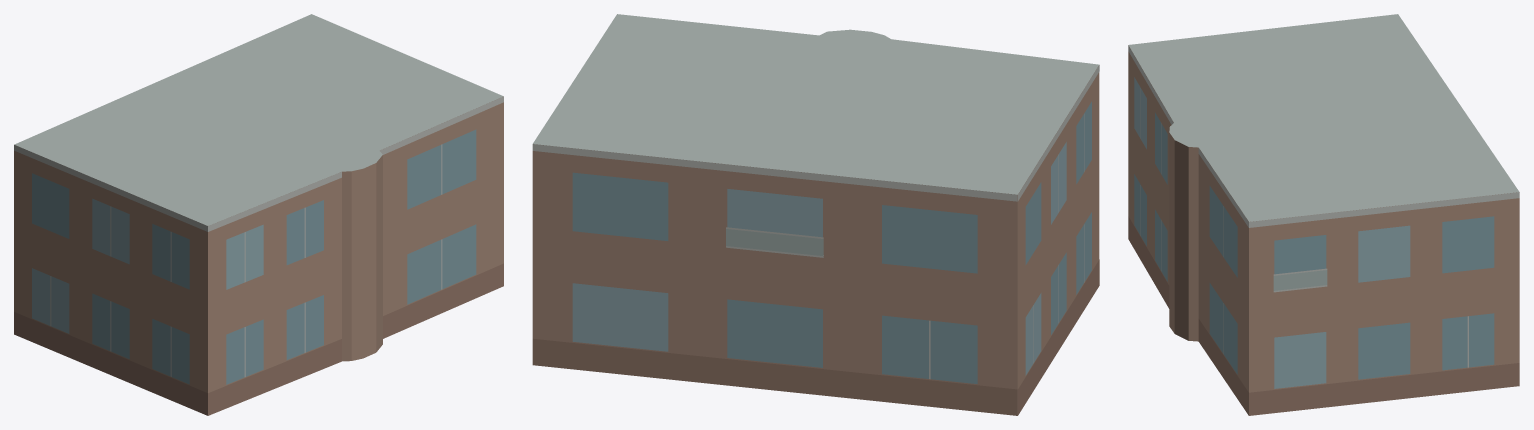
The model's file is survey-upis-32624072.glb.
3 renders of one model, left to right at view 1: azimuth 30°, elevation 25°; view 2: azimuth 150°, elevation 25°; view 3: azimuth 270°, elevation 25°, orthographic. The views are drawn at different scales.
Parts seen in each view (by area): view 1: survey-upis-32624072.tmp; view 2: survey-upis-32624072.tmp; view 3: survey-upis-32624072.tmp.
Part boxes in pixels (x1=…): survey-upis-32624072.tmp: x1=14, y1=14, x2=503, y2=415; survey-upis-32624072.tmp: x1=532, y1=14, x2=1099, y2=415; survey-upis-32624072.tmp: x1=1128, y1=14, x2=1519, y2=415.
Bounding box in the file's own units: 17.94 × 7.8 × 14.27.
